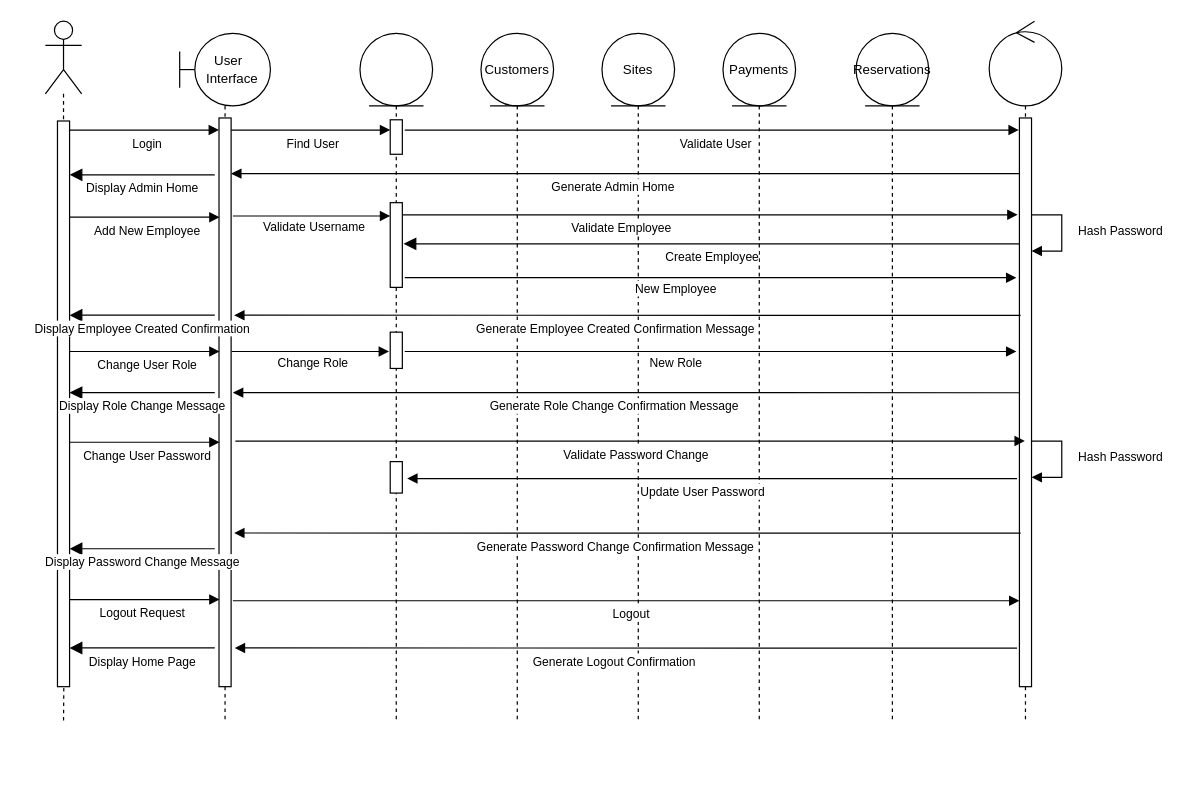
Image size: 1185x791. Some labels were removed from this diagram. The shapes that lost their labels are listed below. From the top down, each one's box as (x1, y1, x2, y2) in pixels, then its label:
(44, 20, 82, 94): Administrator
(359, 32, 433, 723): Users
(988, 20, 1062, 723): Main
